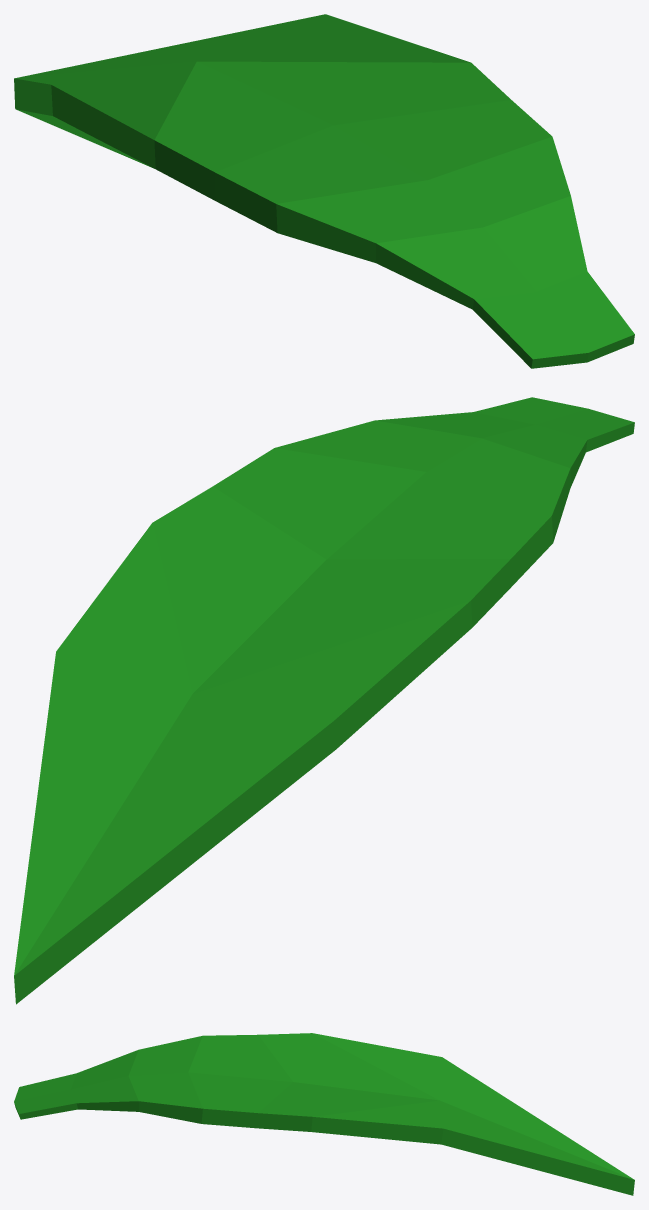
Rendered from CornLeaf02.fbx.
The picture shows the model from 3 angles, top to bottom: view 1: azimuth 30°, elevation 25°; view 2: azimuth 150°, elevation 25°; view 3: azimuth 270°, elevation 25°; orthographic projection. The views are drawn at different scales.
Parts seen in each view (by area): view 1: Leaf02; view 2: Leaf02; view 3: Leaf02.
Boxes of the visible parts, box(x1,y1,x2,y2) form: Leaf02: box(14, 14, 634, 368); Leaf02: box(14, 397, 634, 1004); Leaf02: box(14, 1033, 634, 1195).
Bounding box in the file's own units: 77.95 × 53.84 × 244.
